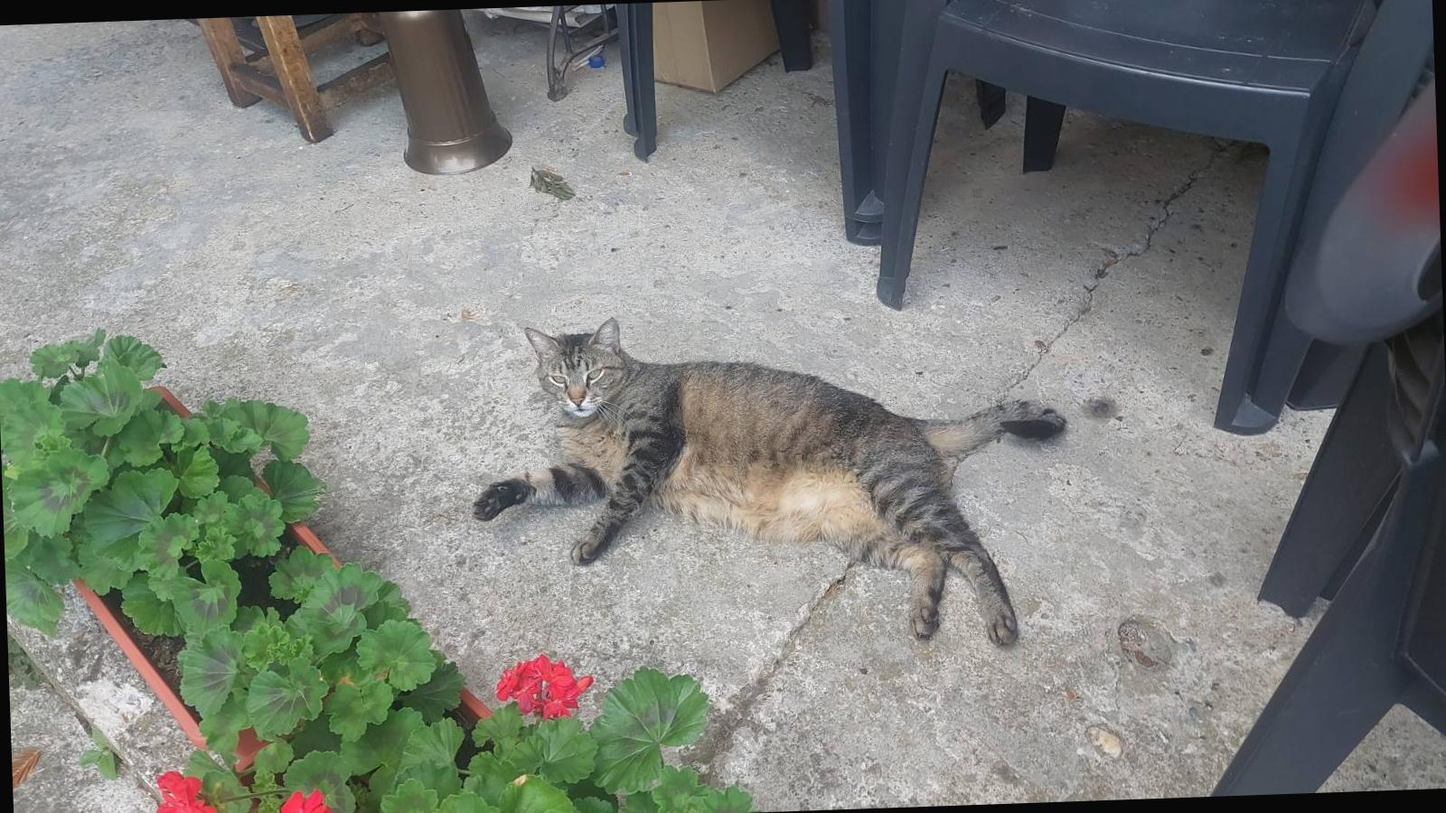macka: (460, 302, 1075, 664)
